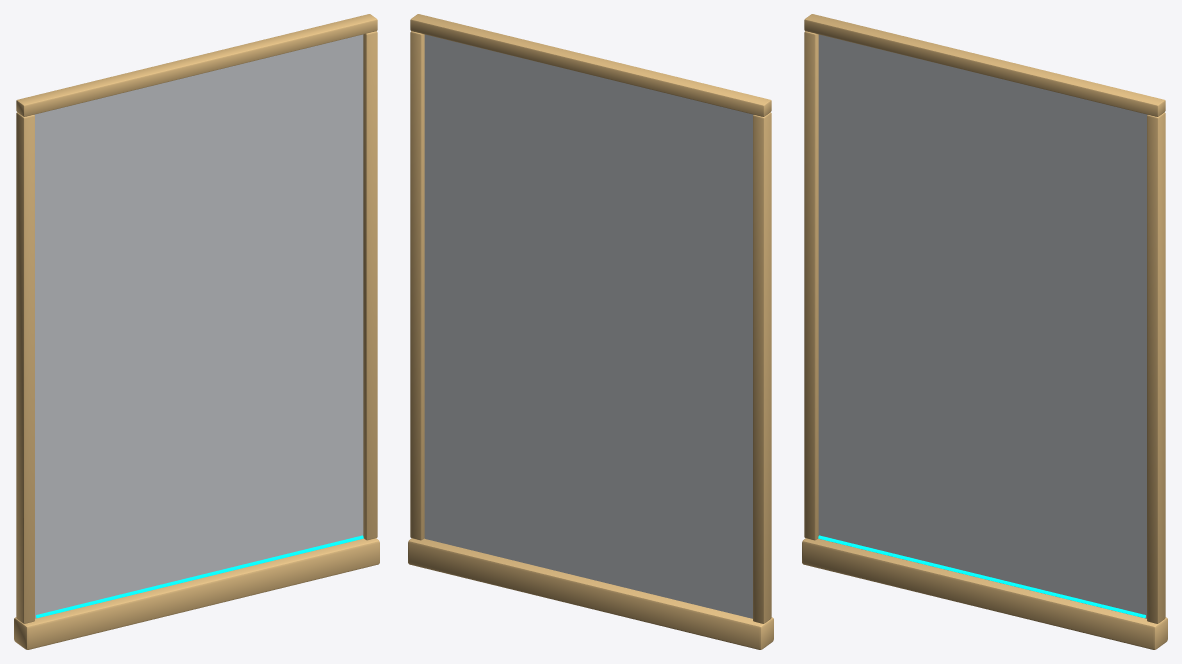
Rendered from KIT_Divisoria_Vidro.glb.
The picture shows the model from 3 angles, left to right: view 1: azimuth 30°, elevation 25°; view 2: azimuth 150°, elevation 25°; view 3: azimuth 330°, elevation 25°; orthographic projection.
Parts seen in each view (by area): view 1: KIT_Divisoria_Vidro; view 2: KIT_Divisoria_Vidro; view 3: KIT_Divisoria_Vidro.
Boxes of the visible parts, x1,y1,x2,y2 form: KIT_Divisoria_Vidro: [14, 14, 379, 649]; KIT_Divisoria_Vidro: [408, 14, 773, 649]; KIT_Divisoria_Vidro: [802, 14, 1167, 649].
Bounding box in the file's own units: 1.5 × 2.2 × 0.1.
